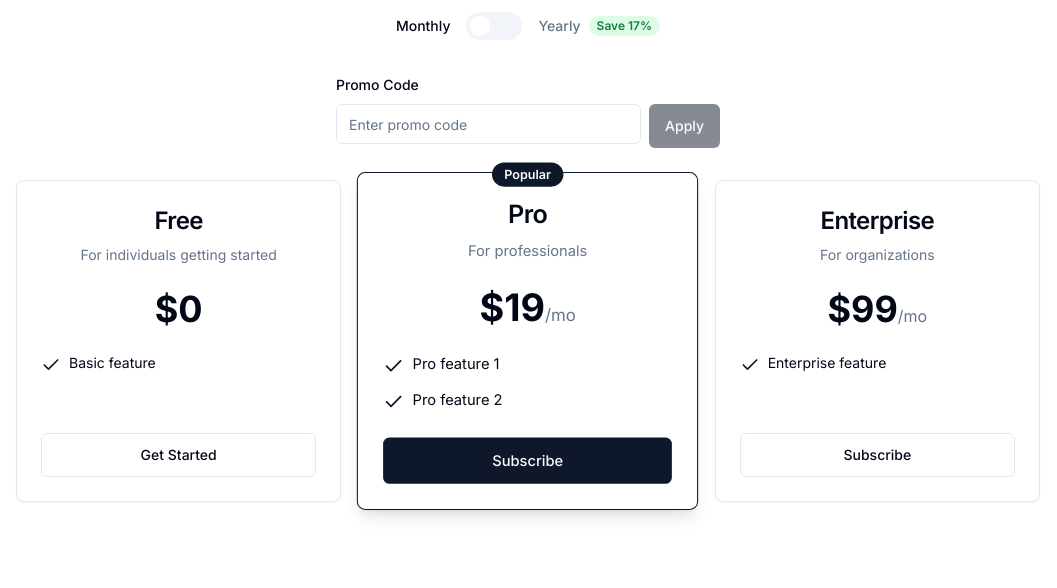
PricingTable › error handling › displays default error when no error message in response
This screenshot has width=1057, height=588.
Click the button "Subscribe" below "Pro feature 2". click: (528, 461)
box: [383, 438, 672, 484]
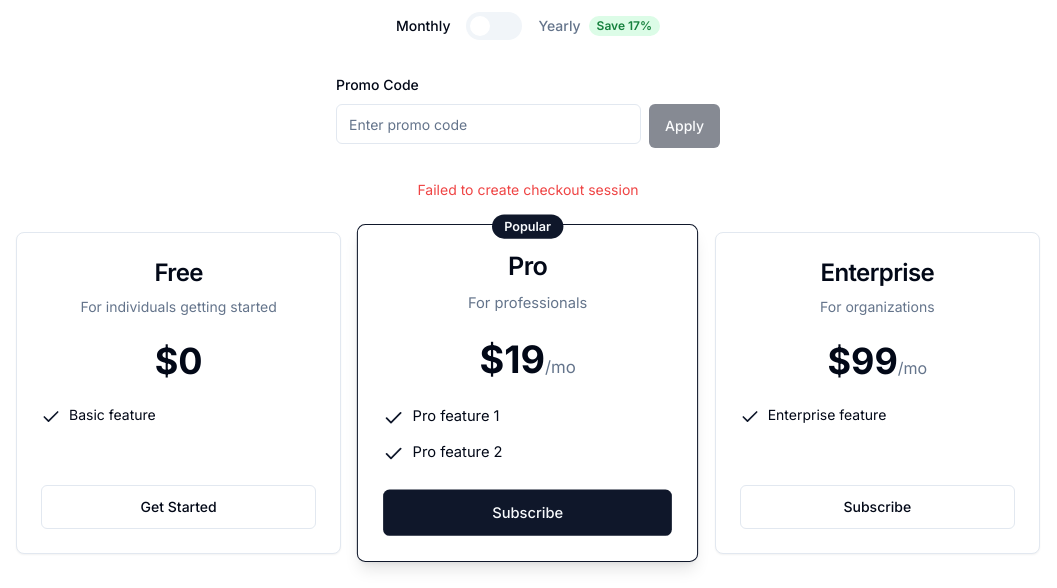
Expected: the text "Failed to create checkout session" is shown, [417, 181, 638, 198]
